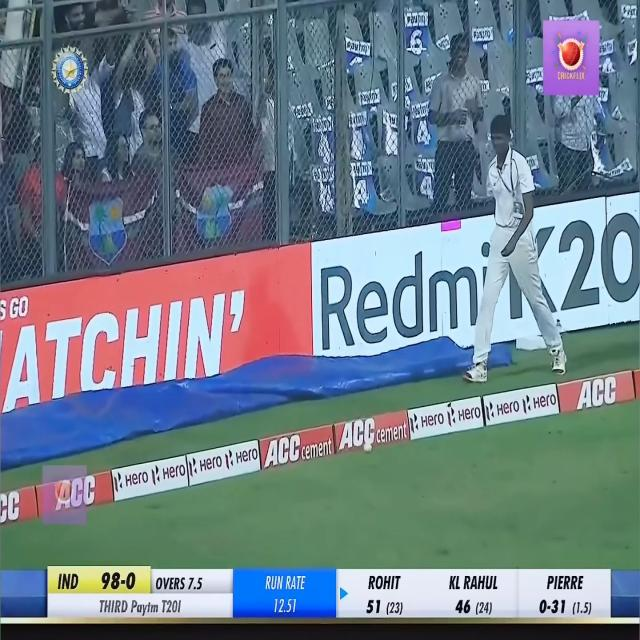partially_visible: (339, 31, 376, 64), (404, 9, 428, 29)
